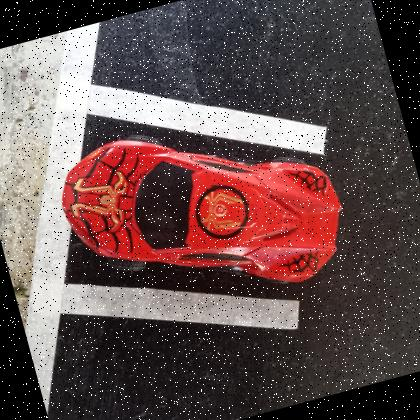Car: (61, 132, 343, 282)
